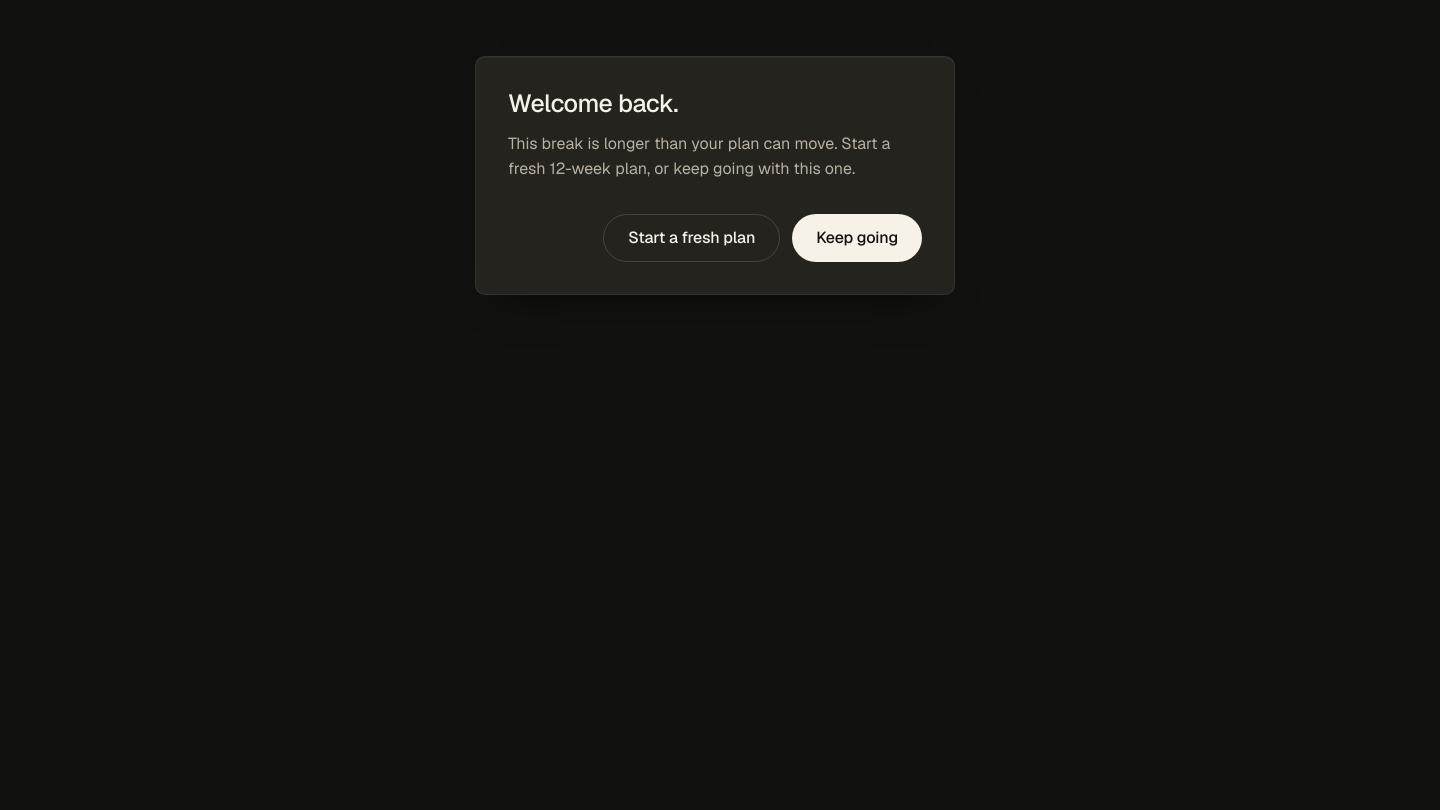
Scenario: Start a fresh plan › refuses an empty level
The image size is (1440, 810).
Click the button "Start a fresh plan": coordinates (692, 238) 603,214 -> 780,262
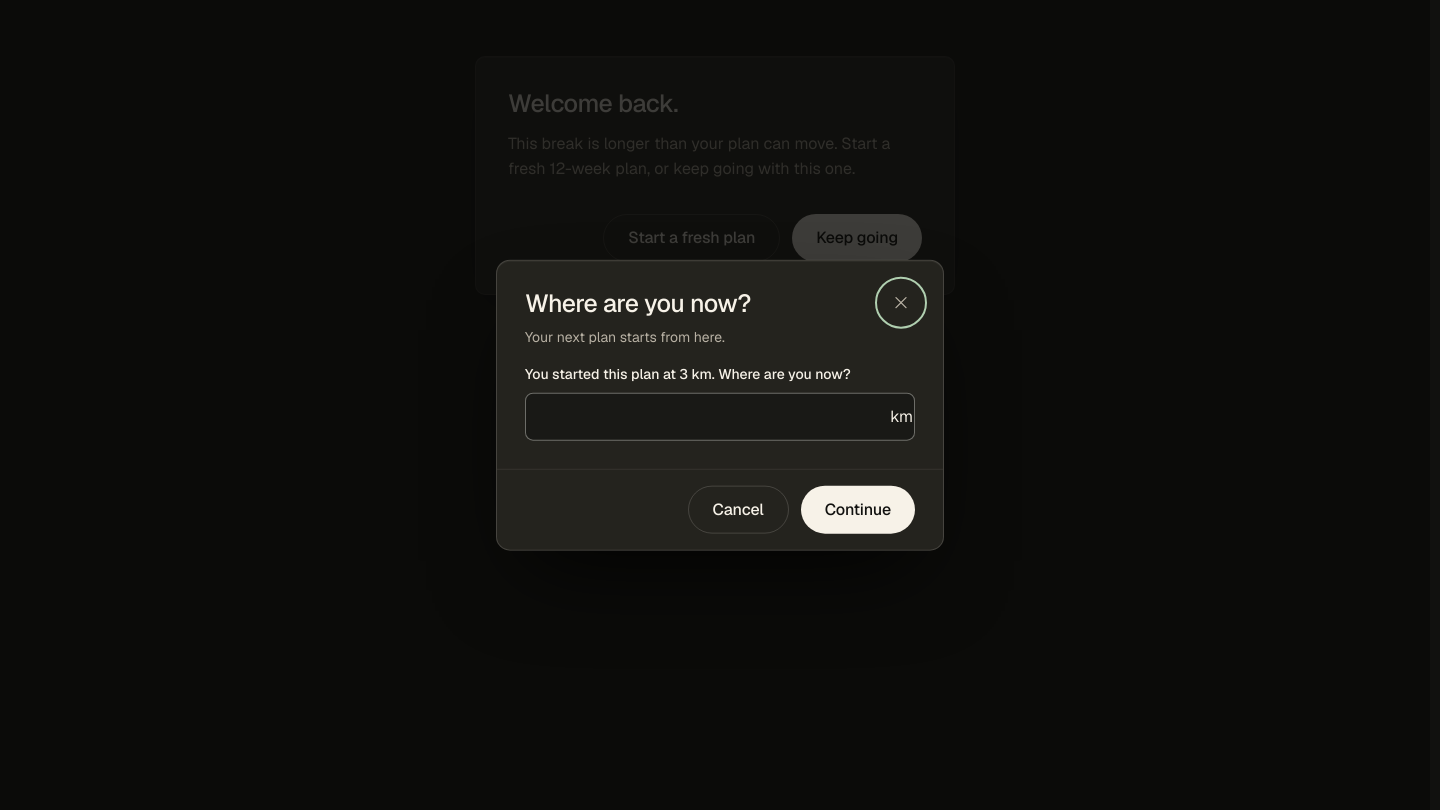
Clear the field: coordinates (720, 416) 525,392 -> 915,440
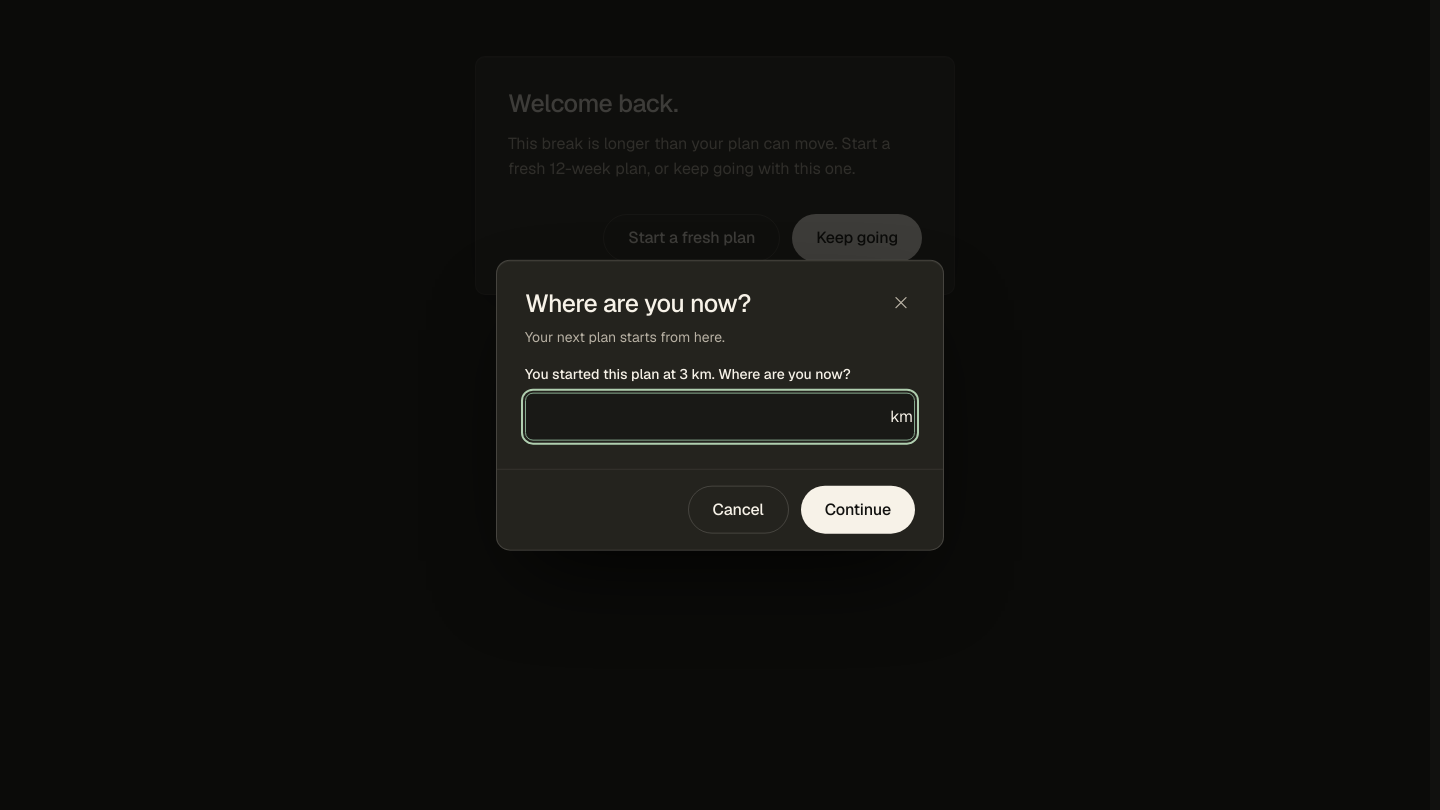
Click the button "Continue": coordinates (858, 509) 801,485 -> 915,533
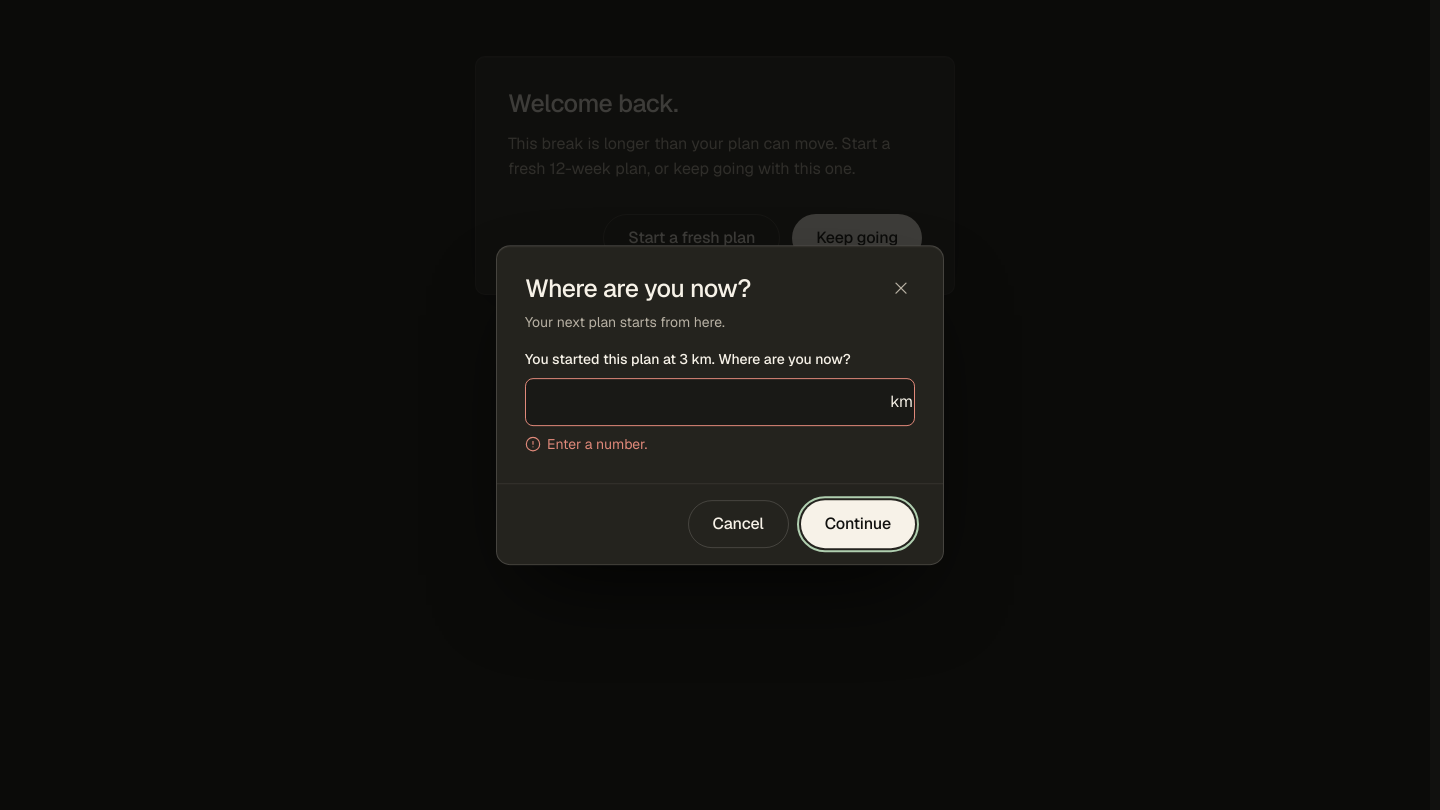
Now the text "Enter a number." is shown, box 547,434 -> 647,455
